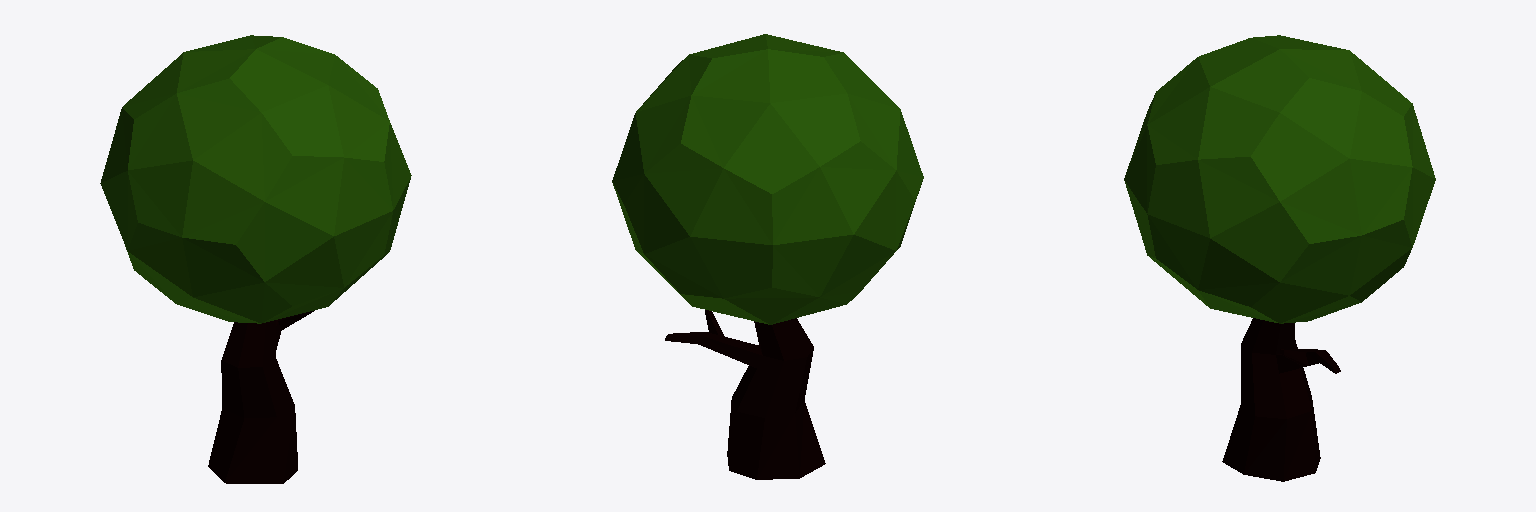
The model's file is Tree_01.obj.
3 renders of one model, left to right at view 1: azimuth 30°, elevation 25°; view 2: azimuth 150°, elevation 25°; view 3: azimuth 270°, elevation 25°, orthographic.
Parts seen in each view (by area): view 1: group20 pPlatonic1, group20 pCylinder1; view 2: group20 pPlatonic1, group20 pCylinder1; view 3: group20 pPlatonic1, group20 pCylinder1.
Boxes of the visible parts, x1,y1,x2,y2 form: group20 pPlatonic1: [100, 35, 411, 323]; group20 pCylinder1: [208, 310, 314, 483]; group20 pPlatonic1: [612, 34, 923, 324]; group20 pCylinder1: [665, 310, 825, 479]; group20 pPlatonic1: [1124, 35, 1435, 323]; group20 pCylinder1: [1222, 318, 1340, 481].
Bounding box in the file's own units: 3.95 × 5.88 × 4.02.